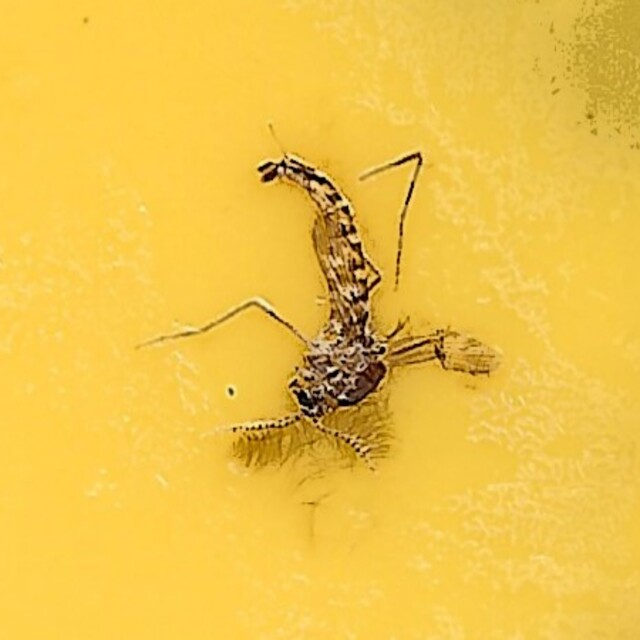Nematocera: (142, 153, 498, 487)
